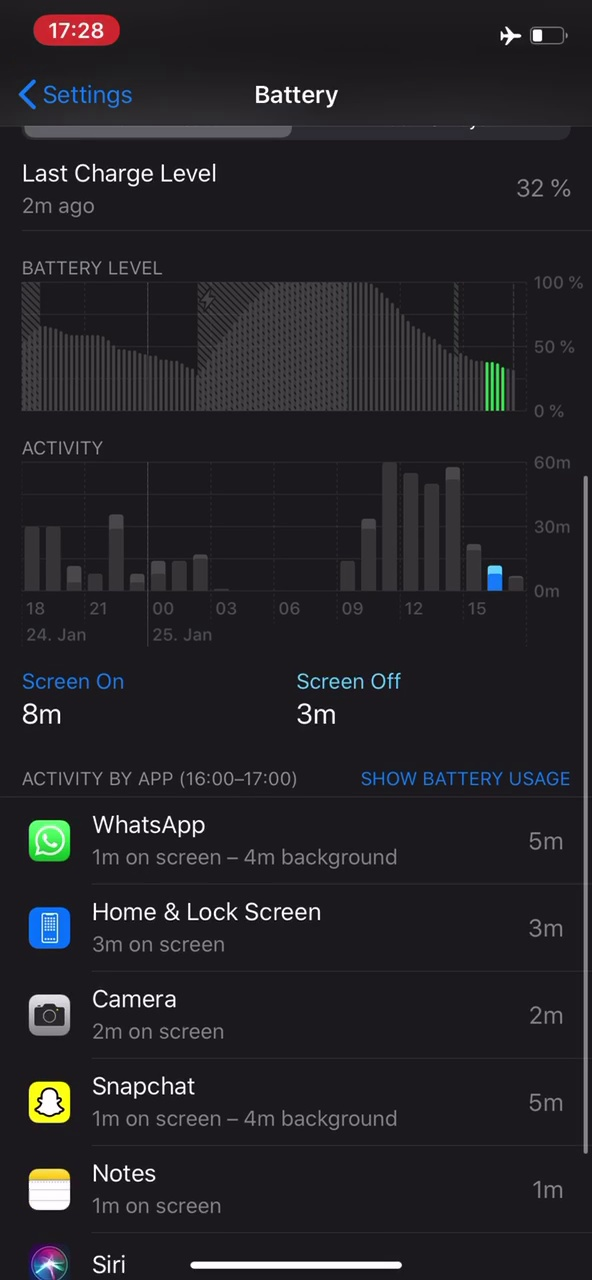activity: (11, 752, 315, 808)
app: (15, 974, 582, 1046), (14, 1069, 581, 1141), (10, 1155, 577, 1227), (11, 813, 576, 877), (13, 893, 578, 957)
